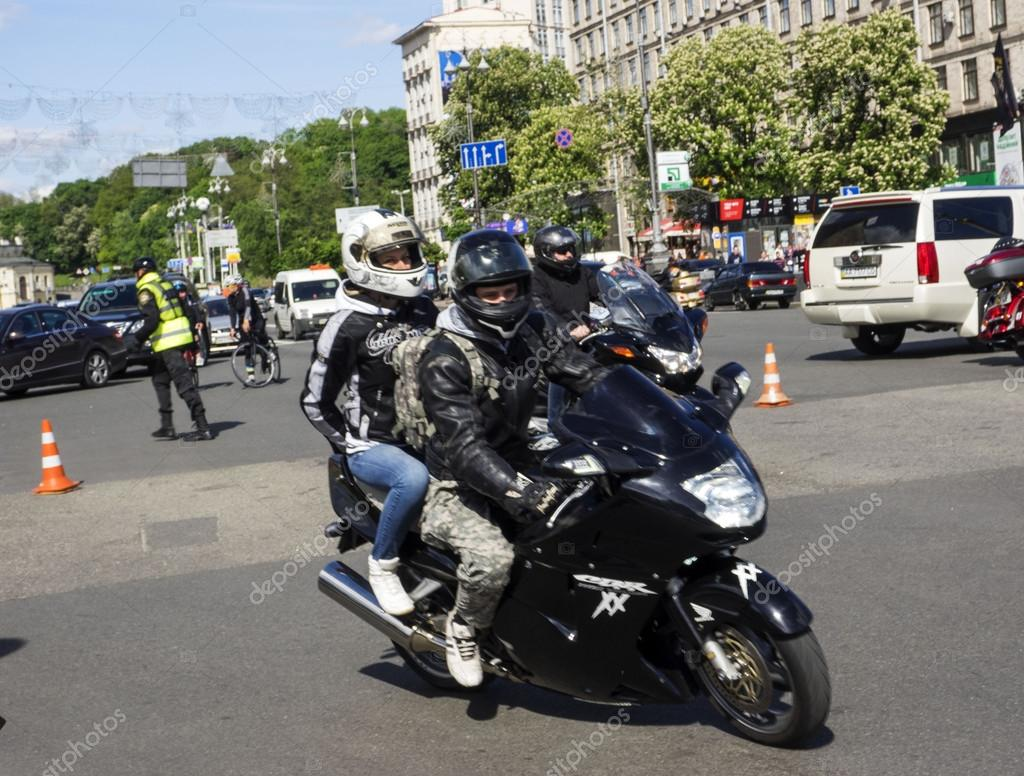helmet: (333, 204, 429, 294), (449, 235, 536, 325)
